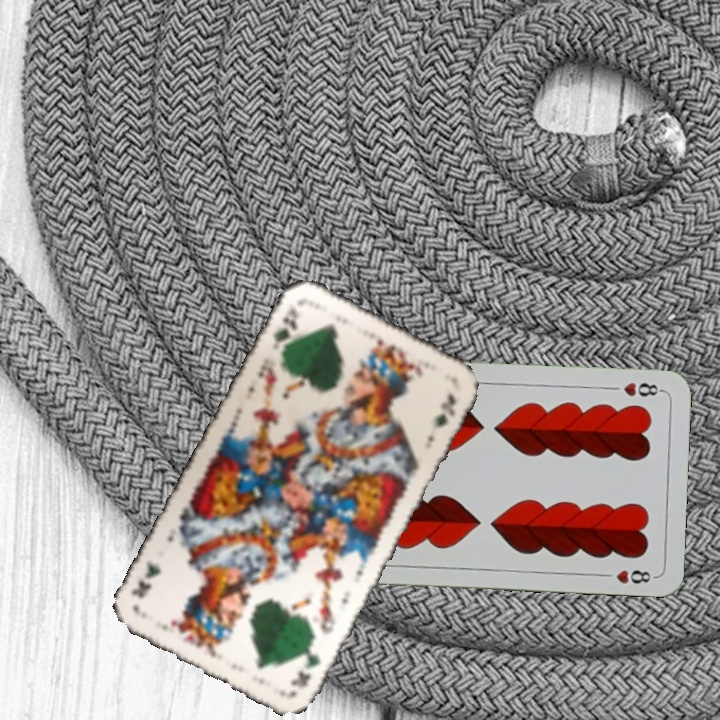GK: (286, 637, 323, 691), (268, 304, 301, 355)
H8: (619, 378, 665, 399)
